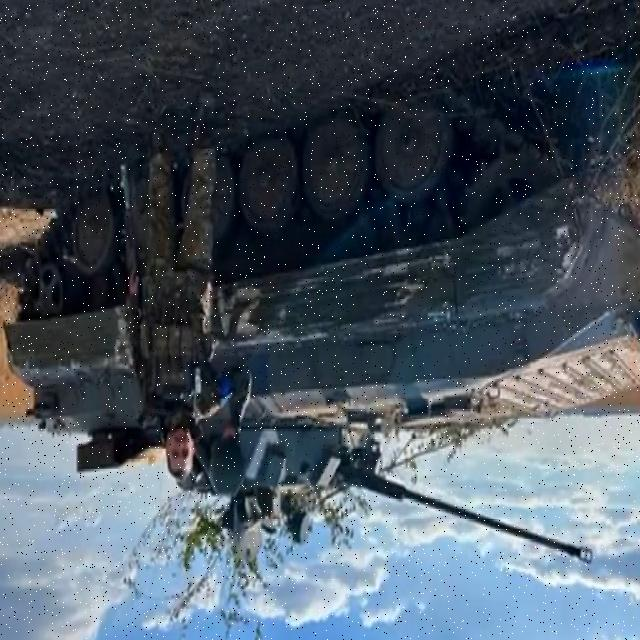APC-IFV: (9, 82, 635, 584)
